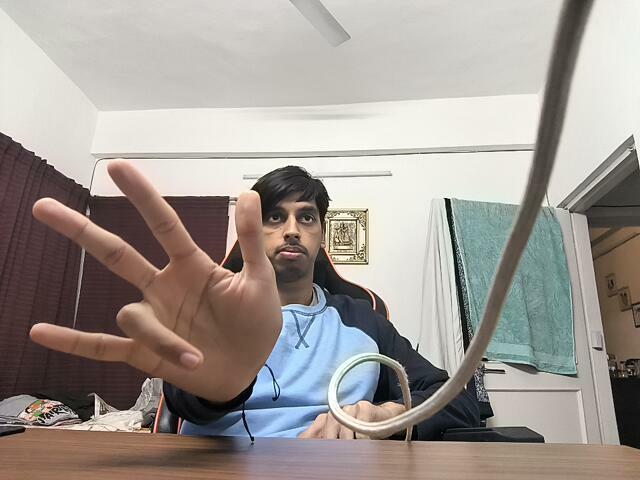BACKWARD: (25, 151, 283, 396)
